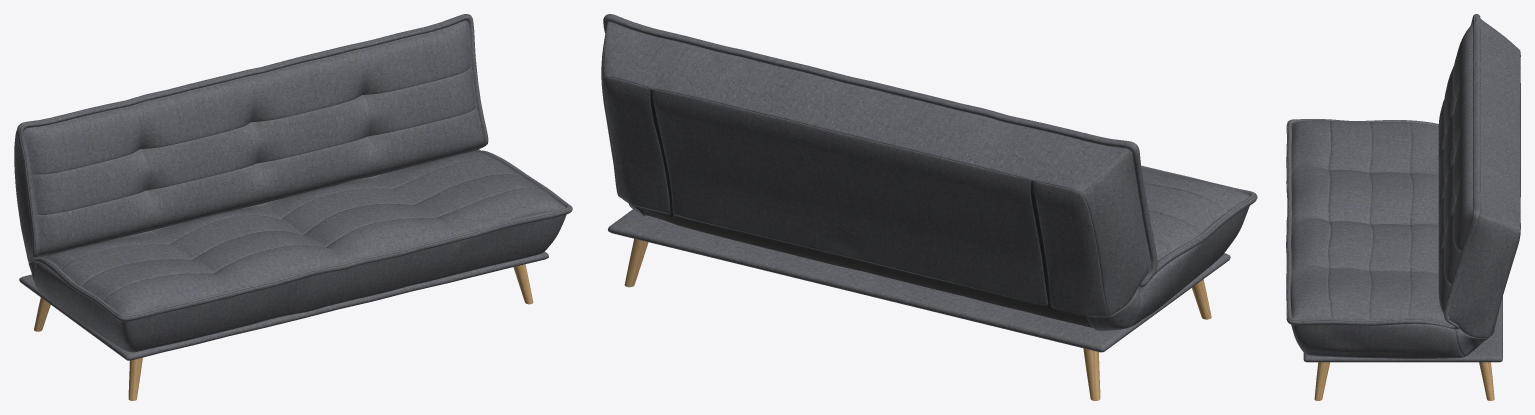
Rendered from abo-B07R4TY73P.glb.
3 views of the same model, side by side, from view 1: azimuth 30°, elevation 25°; view 2: azimuth 150°, elevation 25°; view 3: azimuth 270°, elevation 25° (orthographic). The views are drawn at different scales.
Size of the model in its own units: 1.94 by 0.89 by 0.9497.
1 material, 1 textured.
